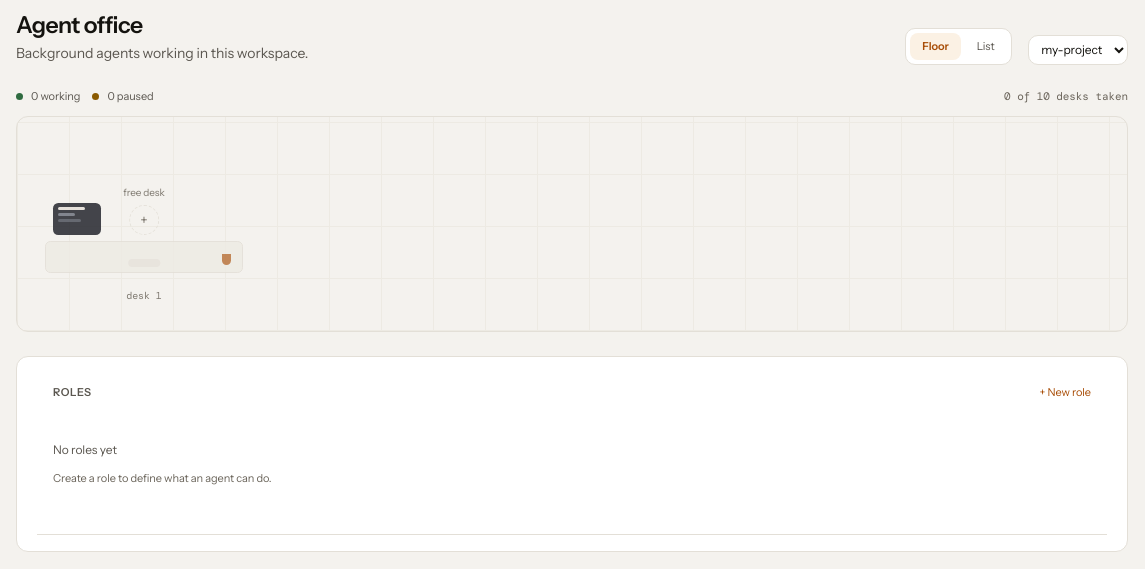
Test: AgentOfficeView › SSE status event updates board state
Click the button "list": (986, 47) top-left (965, 33), bottom-right (1006, 60)
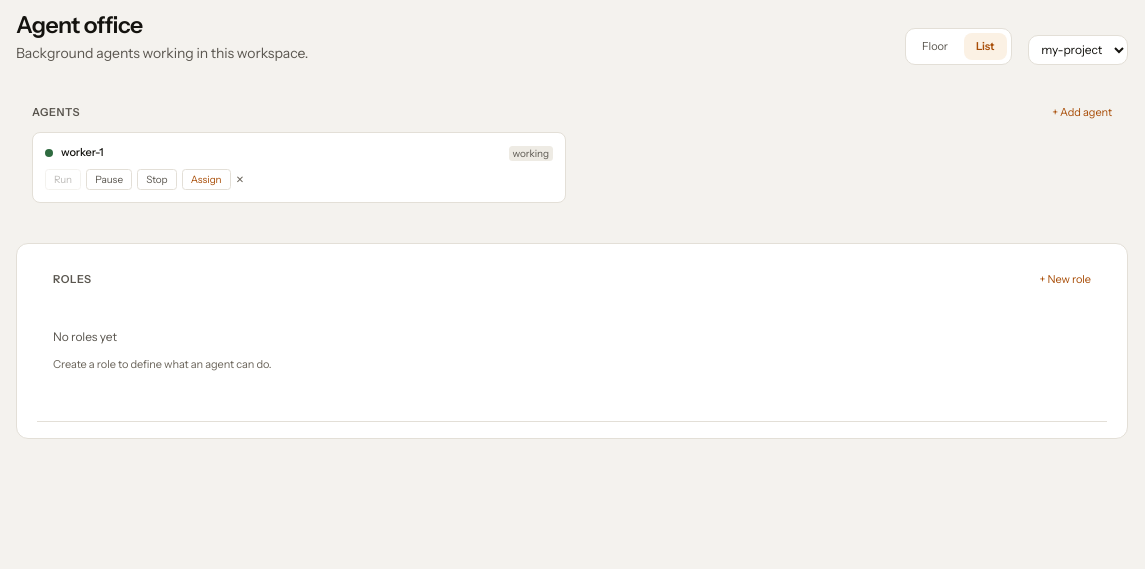
Expected: the text "worker-1" is shown, top-left (61, 145), bottom-right (103, 159)
